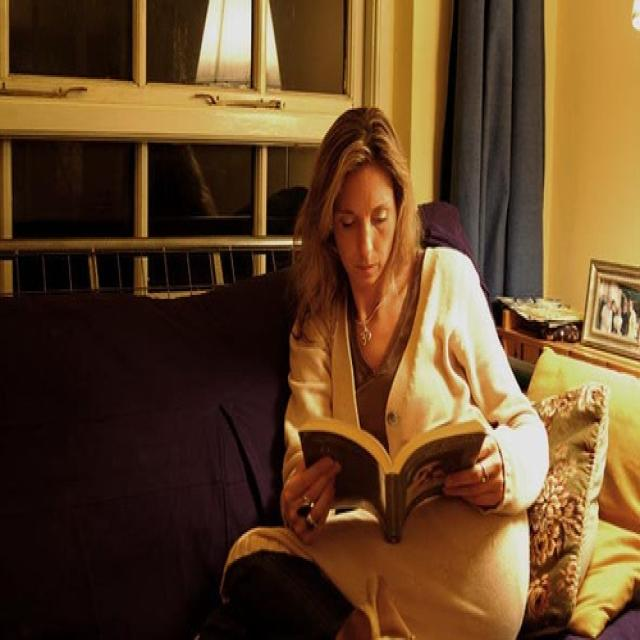sofa: (0, 189, 637, 638)
